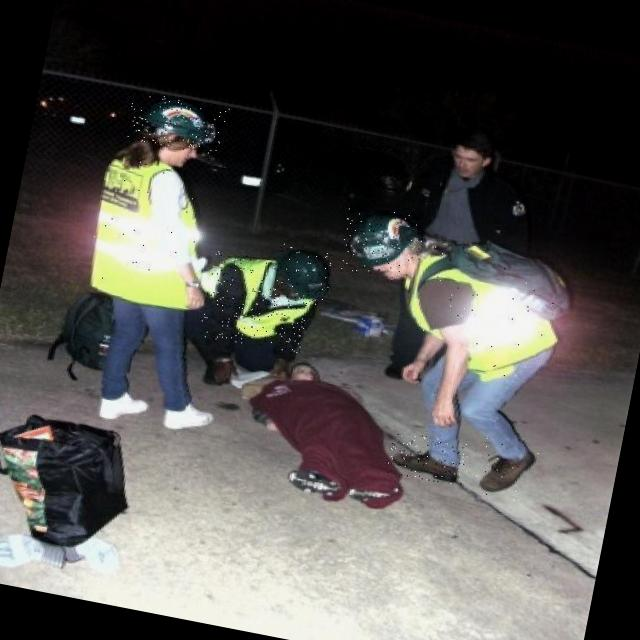boots: (471, 437, 544, 508), (386, 430, 470, 487)
helmet: (336, 204, 428, 284), (125, 90, 230, 157), (266, 242, 338, 307)
vest: (406, 242, 562, 384), (80, 152, 218, 312), (198, 250, 316, 356)
